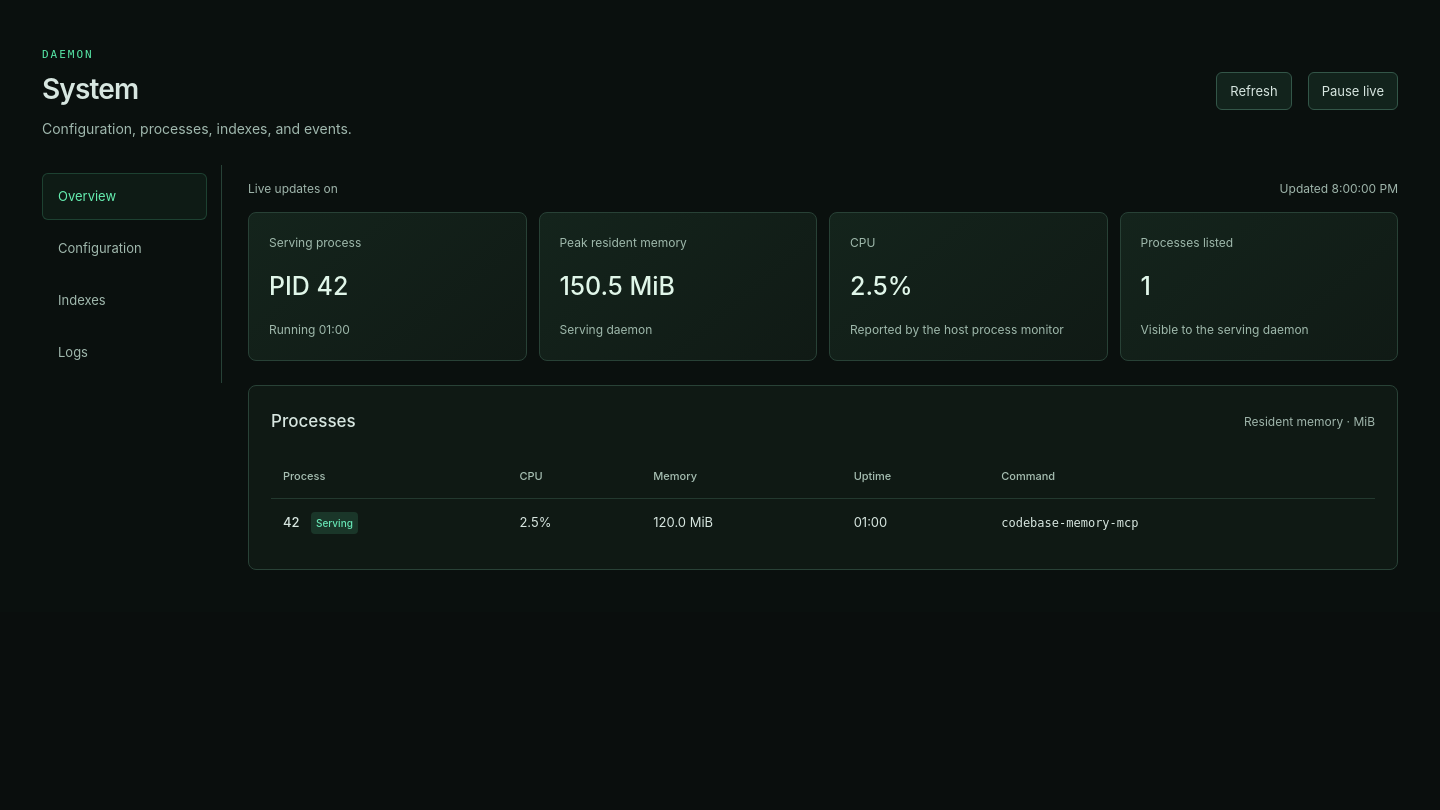
it: System workspace › loads retained history without a separate text-search input or query
Click the tab "Logs". click: coordinates (124, 352)
box: [42,329,207,375]
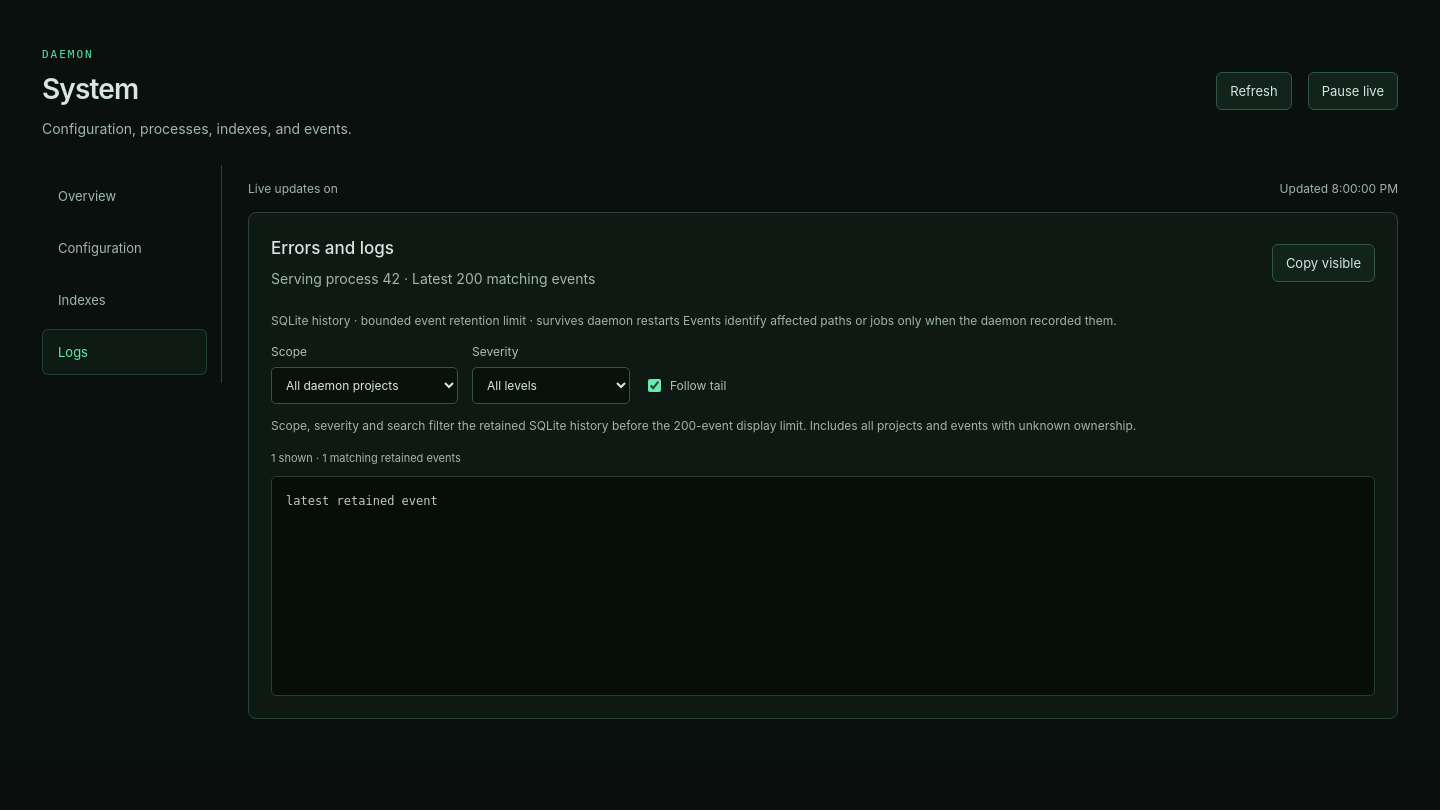
Expected: the element with class "system-log" reads "latest retained event", [286,494,438,508]
Expected: the dropdown named "Log severity" is shown, [472,367,630,404]
